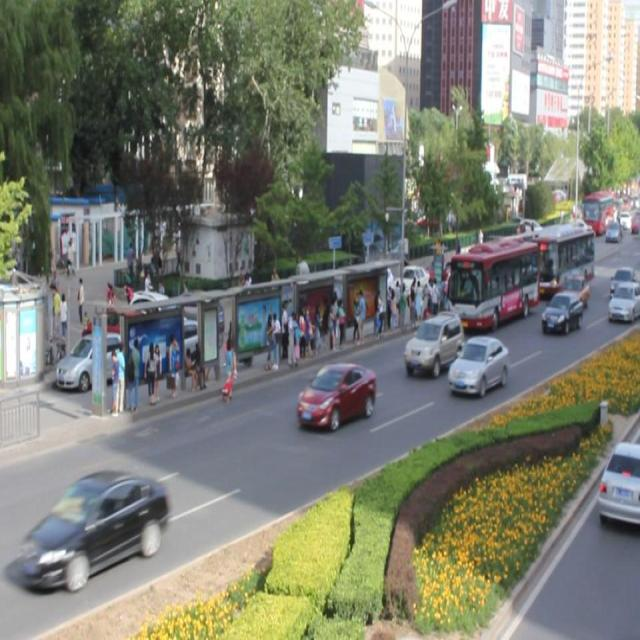car: (28, 468, 167, 588), (297, 360, 376, 427), (448, 333, 507, 395), (404, 310, 463, 371), (540, 289, 581, 333), (607, 278, 640, 322), (556, 273, 588, 308)
van: (448, 235, 538, 327), (524, 218, 592, 296)
